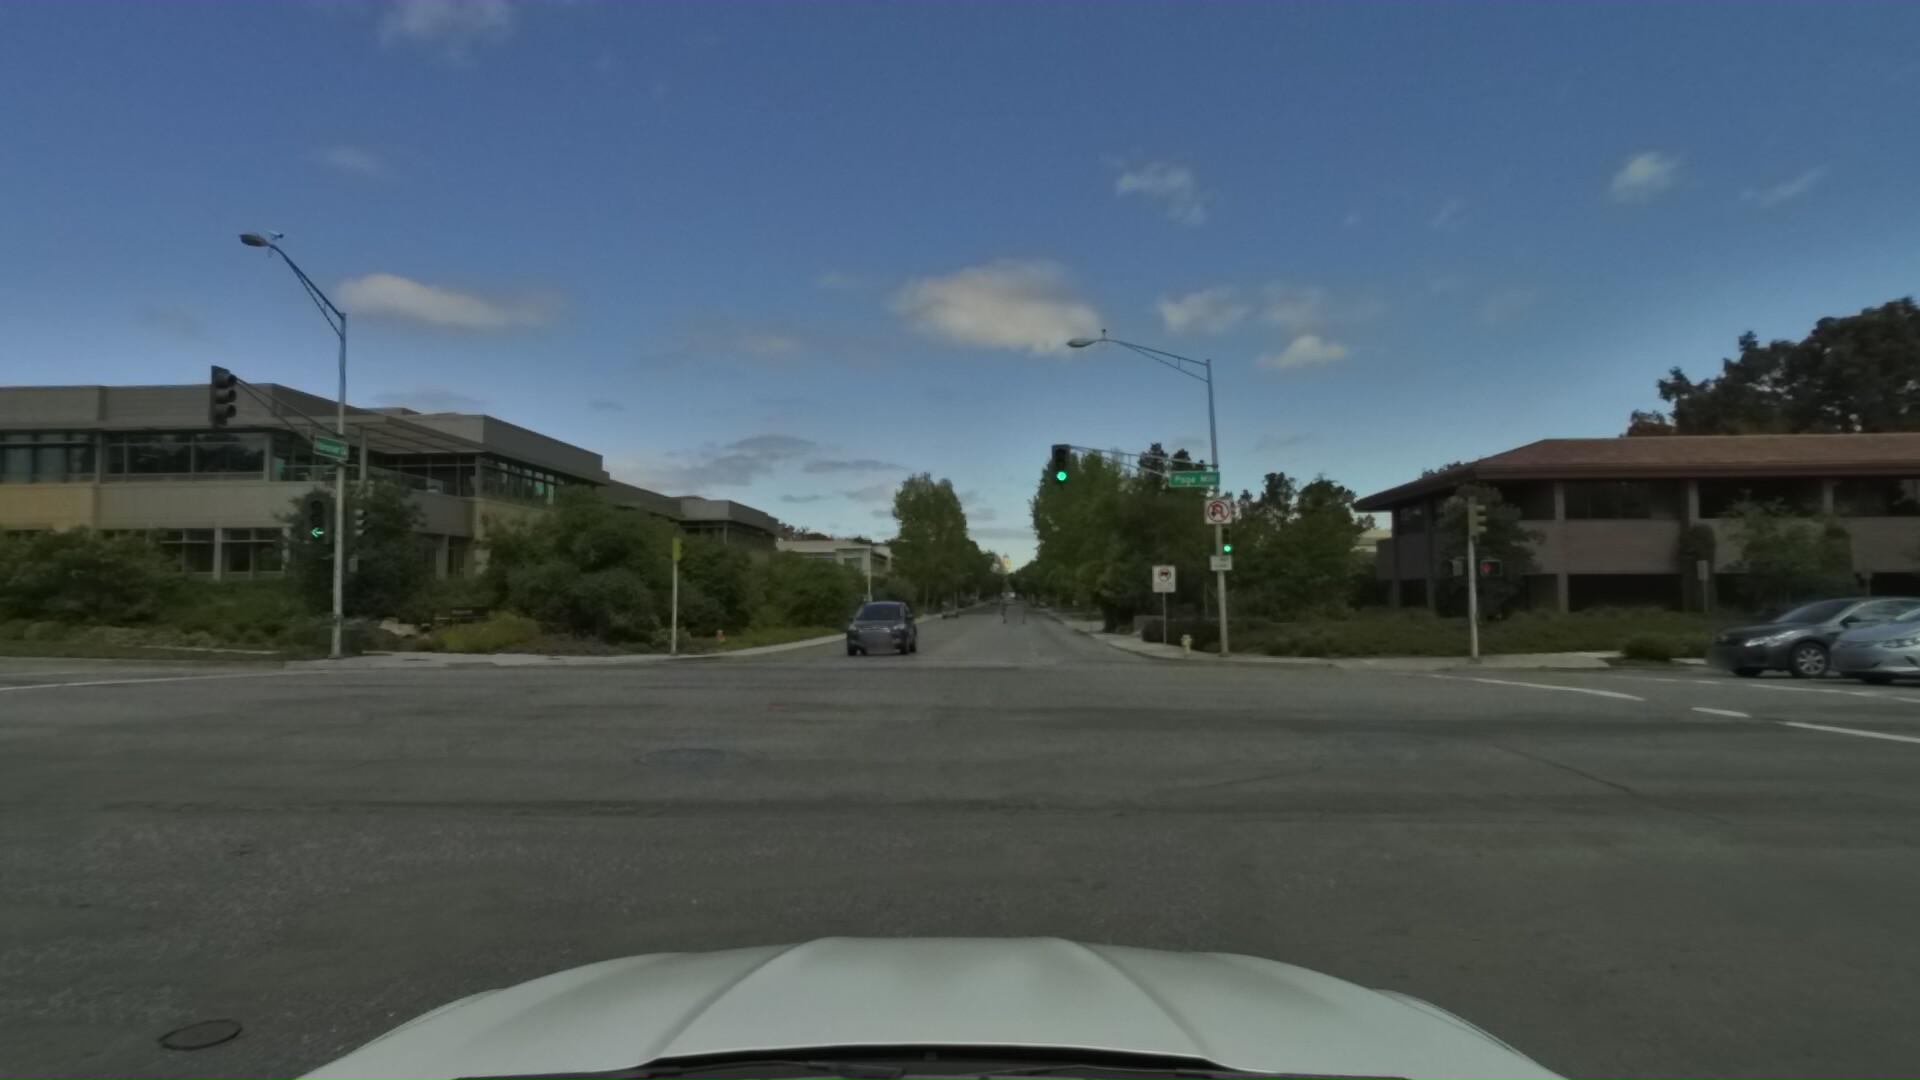car: (1677, 585, 1920, 682), (1789, 574, 1920, 688), (841, 589, 920, 653)
